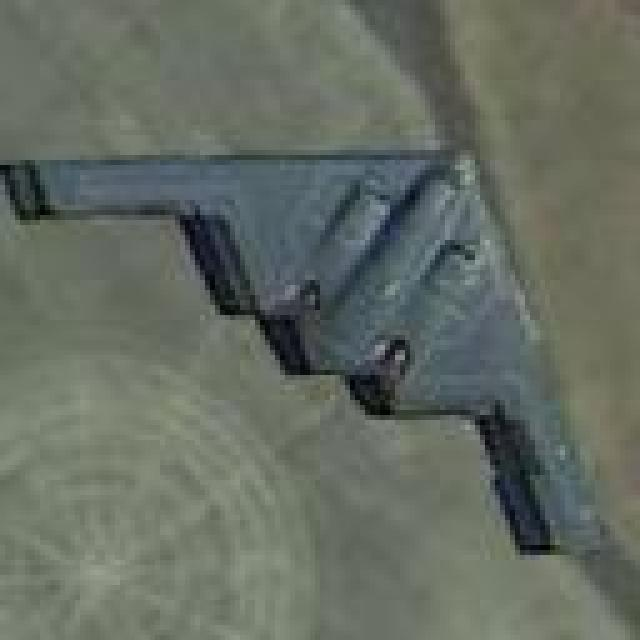B-2_TopDown: (0, 128, 616, 565)
